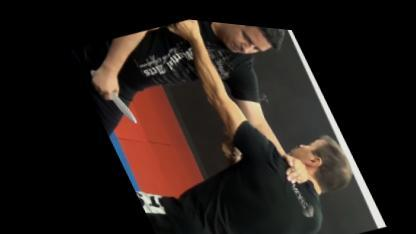knife: (82, 57, 138, 130)
